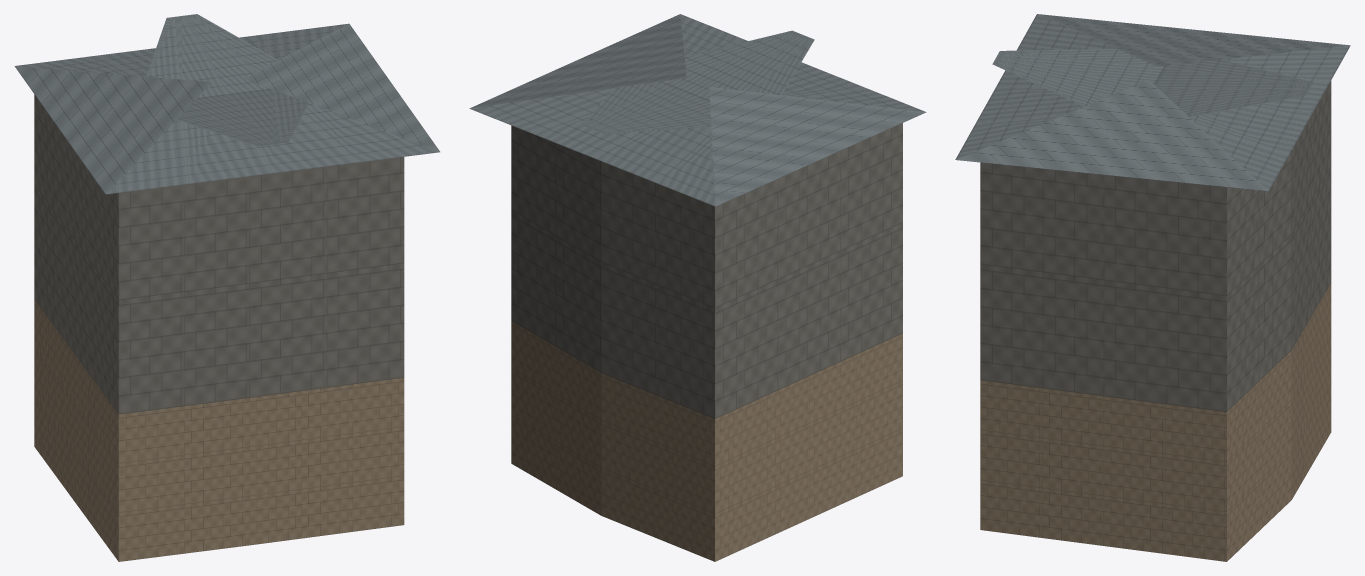
File: bld_c22_45_391.gltf
3 views of the same model, side by side, from view 1: azimuth 30°, elevation 25°; view 2: azimuth 150°, elevation 25°; view 3: azimuth 270°, elevation 25° (orthographic). The views are drawn at different scales.
Parts seen in each view (by area): view 1: bld_c22_45_391; view 2: bld_c22_45_391; view 3: bld_c22_45_391.
Boxes of the visible parts, x1=… form: bld_c22_45_391: x1=14, y1=14, x2=439, y2=561; bld_c22_45_391: x1=469, y1=14, x2=926, y2=561; bld_c22_45_391: x1=955, y1=14, x2=1350, y2=561.
Size of the model in its own units: 12.95 by 14 by 12.21.
Materials: 3 (3 with a texture image).
